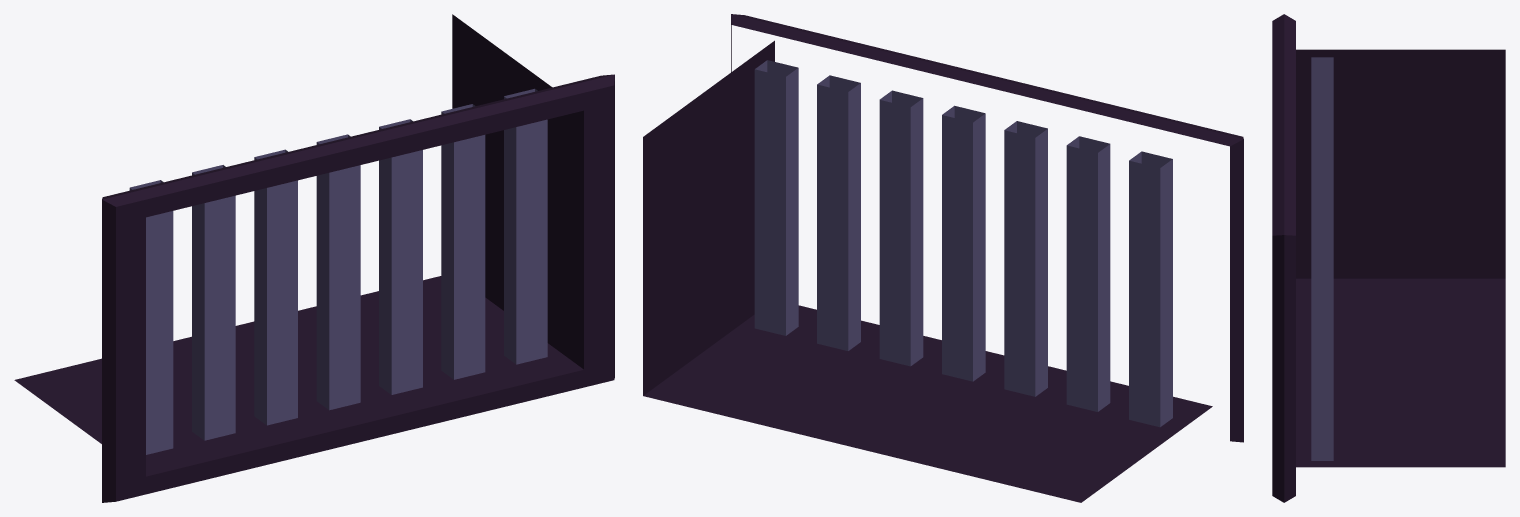
File: Grade.fbx
3 renders of one model, left to right at view 1: azimuth 30°, elevation 25°; view 2: azimuth 150°, elevation 25°; view 3: azimuth 270°, elevation 25°, orthographic. The views are drawn at different scales.
Visible parts, largest first — view 1: BaseGrade, BarrasGrade; view 2: BaseGrade, BarrasGrade; view 3: BaseGrade, BarrasGrade.
Part boxes in pixels (box(x1,y1,x2,y2)): BaseGrade: box(14, 14, 614, 502); BarrasGrade: box(129, 88, 547, 454); BaseGrade: box(643, 14, 1243, 502); BarrasGrade: box(754, 60, 1172, 427); BaseGrade: box(1272, 14, 1505, 502); BarrasGrade: box(1311, 57, 1333, 460).
Bounding box in the file's own units: 4.88 × 2.76 × 2.17.
